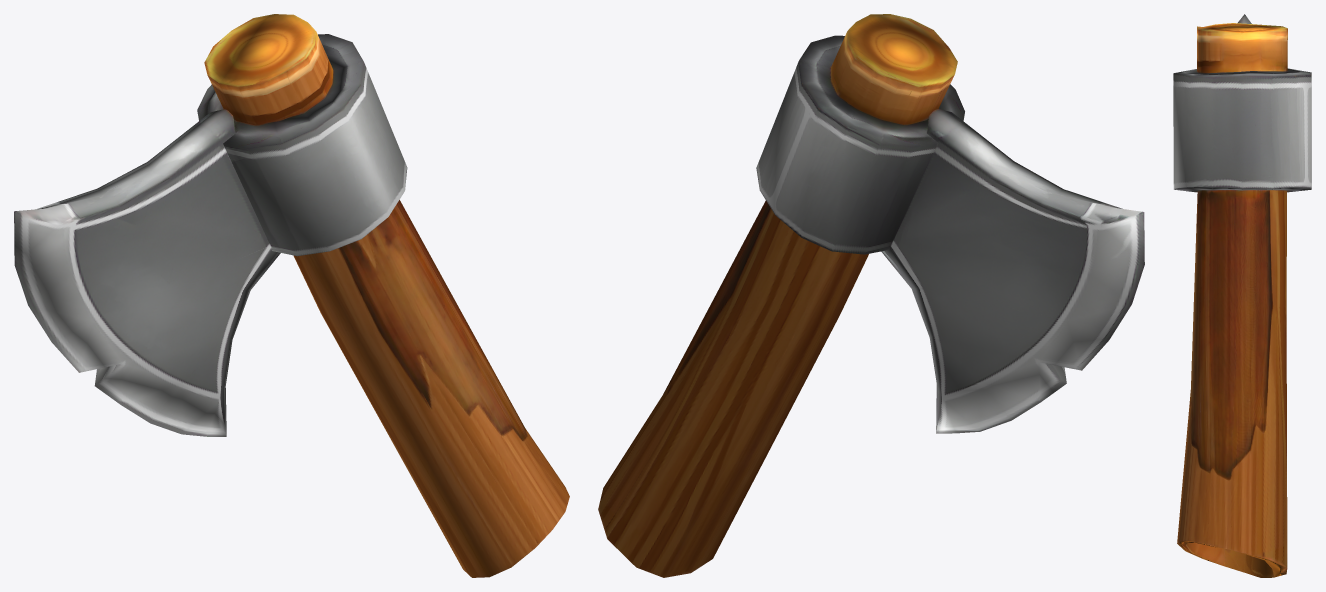
File: Meshy_AI_Battle_Axe_0714134706_texture.fbx
3 views of the same model, side by side, from view 1: azimuth 30°, elevation 25°; view 2: azimuth 150°, elevation 25°; view 3: azimuth 270°, elevation 25° (orthographic). The views are drawn at different scales.
Parts seen in each view (by area): view 1: Mesh_0.001; view 2: Mesh_0.001; view 3: Mesh_0.001.
Boxes of the visible parts, left/top/right/bottom form: Mesh_0.001: left=14, top=14, right=569, bottom=577; Mesh_0.001: left=598, top=14, right=1144, bottom=577; Mesh_0.001: left=1173, top=14, right=1311, bottom=577.
Size of the model in its own units: 95.9 by 100 by 26.37.
Materials: 1 (1 with a texture image).
